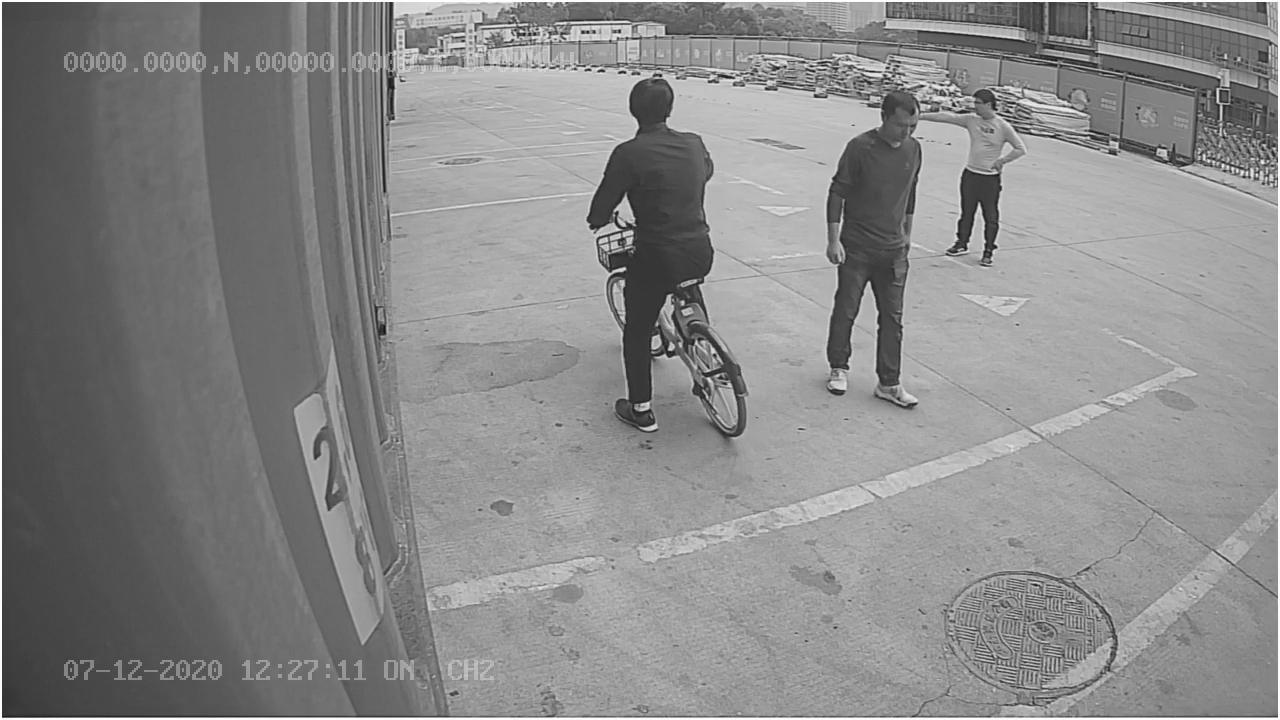person: (818, 84, 933, 414)
